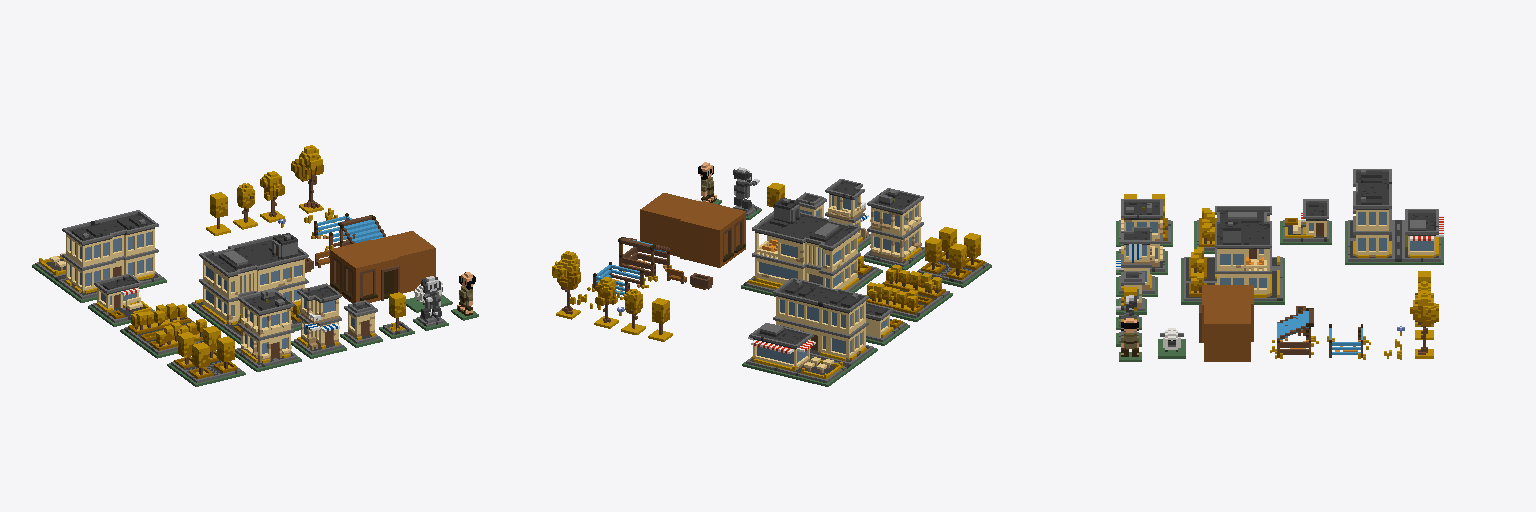
3 views of the same model, side by side, from view 1: azimuth 30°, elevation 25°; view 2: azimuth 150°, elevation 25°; view 3: azimuth 270°, elevation 25° (orthographic).
Bounding box in the file's own units: 126 × 31 × 126.
1 materials, 1 textured.